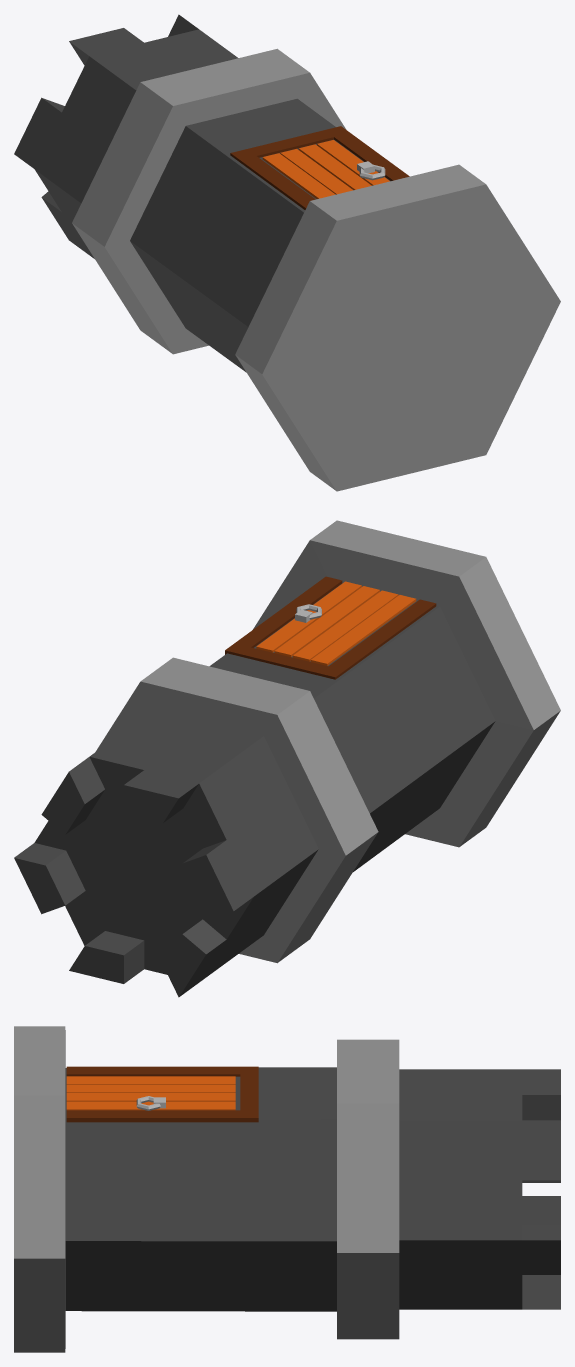
Rendered from tower_2_lifes.fbx.
3 renders of one model, top to bottom at view 1: azimuth 30°, elevation 25°; view 2: azimuth 150°, elevation 25°; view 3: azimuth 270°, elevation 25°, orthographic. The views are drawn at different scales.
Visible parts, largest first — view 1: Cylinder.001; view 2: Cylinder.001; view 3: Cylinder.001.
Boxes of the visible parts, x1,y1,x2,y2 form: Cylinder.001: (14,14,560,491); Cylinder.001: (14,520,560,997); Cylinder.001: (14,1026,560,1352).
Bounding box in the file's own units: 539 × 466 × 898.
